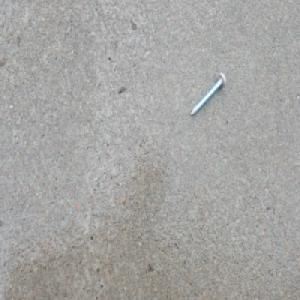Nail: (189, 70, 226, 118)
